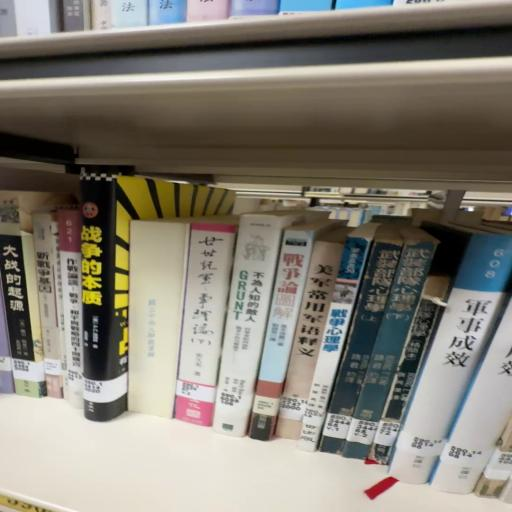backward: (129, 219, 193, 420)
book: (285, 229, 363, 449), (212, 216, 285, 443), (177, 222, 241, 437), (82, 188, 134, 423), (128, 225, 189, 425)
